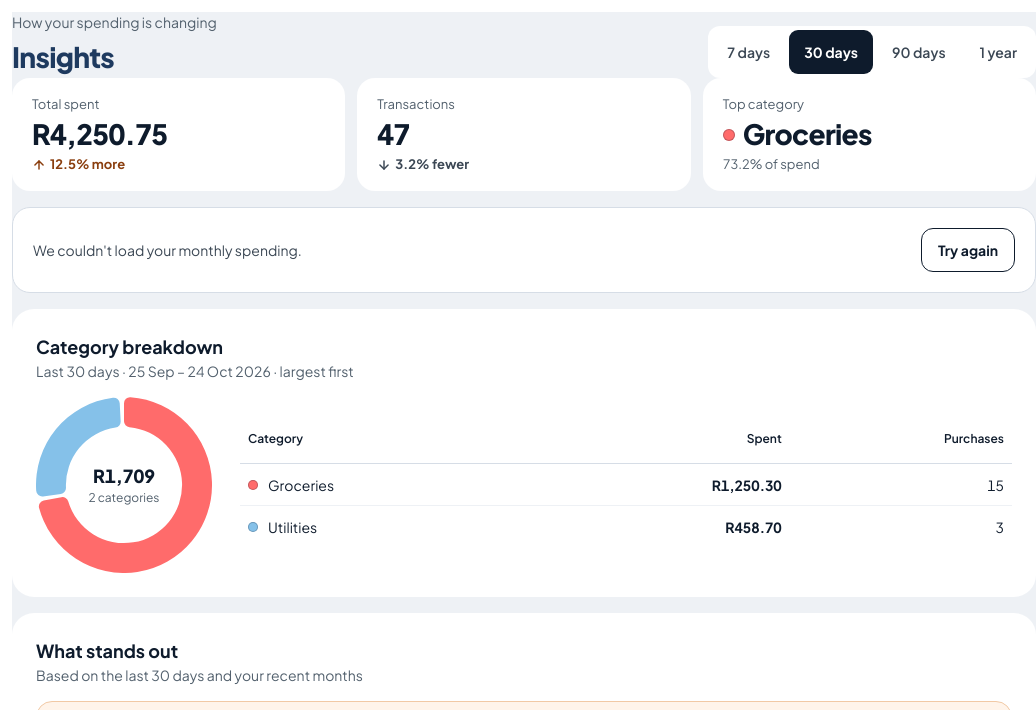
Test: InsightsExplorer › recovers trends after retrying its failed request
The image size is (1036, 710).
Expected: the text "We couldn't load your monthly spending." is shown, 33,240 -> 302,260
What coordinates should you click on to do the following:
click the button "Try again"
I would click on:
 (968, 250)
Its box is 921,228 -> 1015,272.
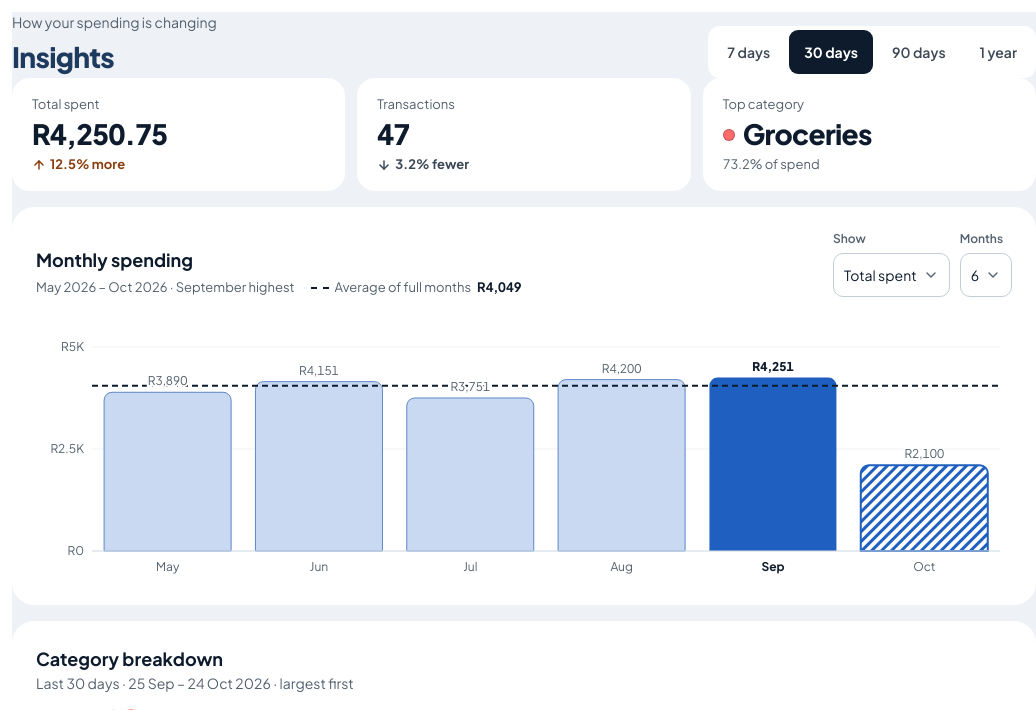
Expected: the text "We couldn't load your monthly spending." is gone
